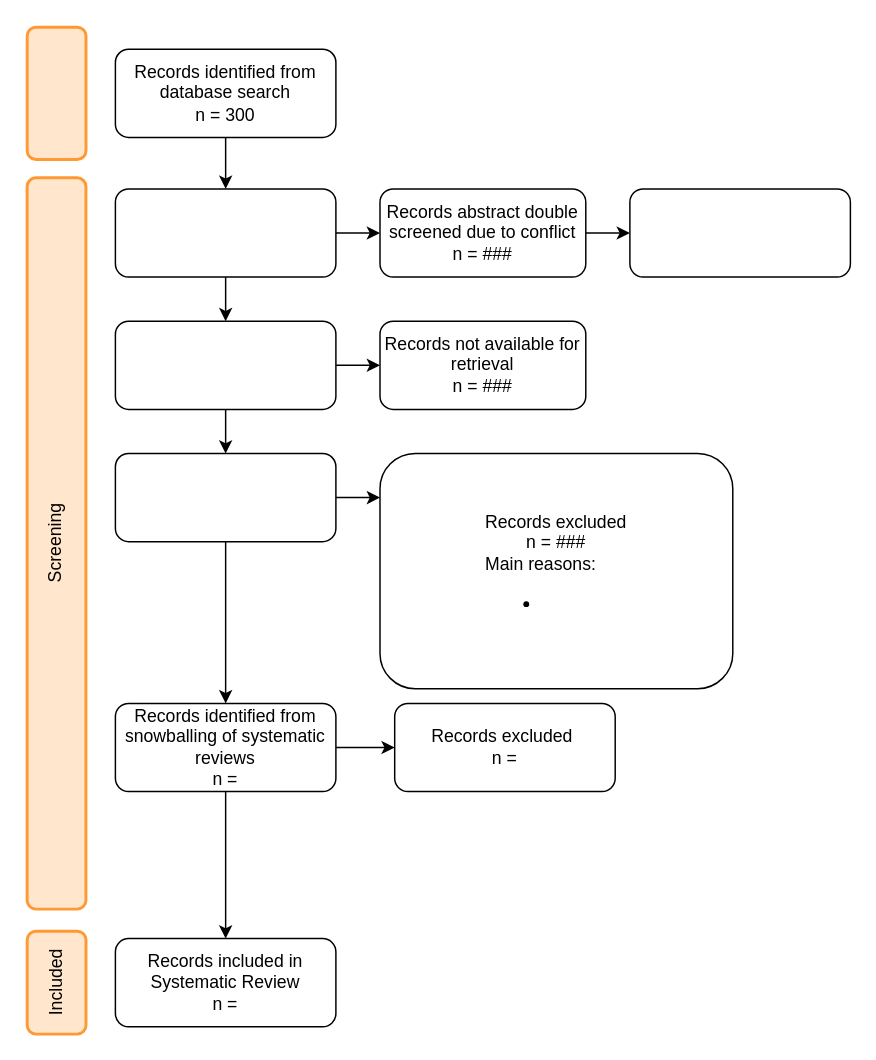
This 876x1060 diagram has some shape labels left out. Each missing label, with the centre of its shape:
"Full records extracted for retrieval n = ###" goes at [225,364].
"Full text records assesed for elegibility n = ###" goes at [225,497].
"Identification" goes at [56,92].
"Records abstract screened n = 300" goes at [225,232].
"Records excluded n = ###" goes at [739,232].
